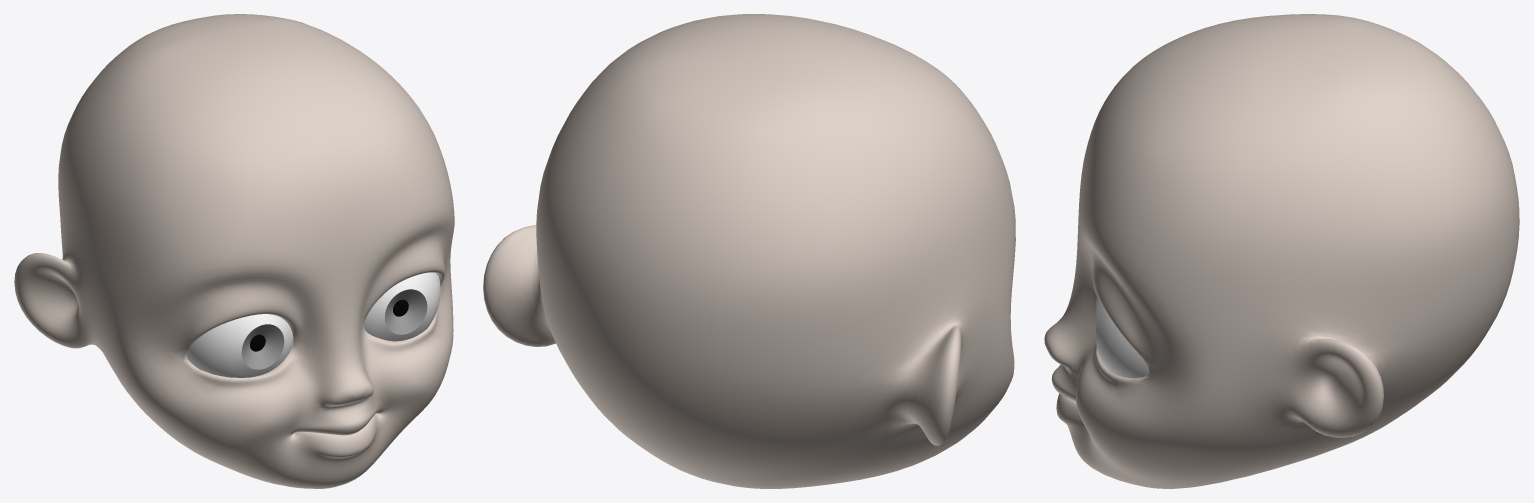
Rendered from bebe.fbx.
3 views of the same model, side by side, from view 1: azimuth 30°, elevation 25°; view 2: azimuth 150°, elevation 25°; view 3: azimuth 270°, elevation 25° (orthographic). The views are drawn at different scales.
Parts seen in each view (by area): view 1: Head, Eye.R, Eye.L; view 2: Head; view 3: Head, Eye.L.
Part boxes in pixels (x1,y1,x2,y2): Head: (14, 14, 454, 488); Eye.R: (186, 314, 293, 377); Eye.L: (364, 272, 440, 341); Head: (483, 14, 1015, 488); Head: (1044, 14, 1519, 488); Eye.L: (1096, 297, 1148, 378).
Size of the model in its own units: 687 by 655 by 655.
